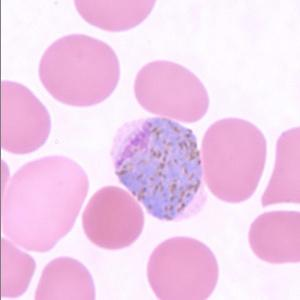Infected: (111, 117, 210, 222)
Uninfected: (2, 155, 87, 252), (38, 35, 120, 108), (202, 118, 268, 204), (134, 60, 210, 126), (147, 235, 217, 300), (0, 79, 52, 153), (83, 186, 144, 248), (249, 209, 300, 262), (35, 256, 95, 300)
